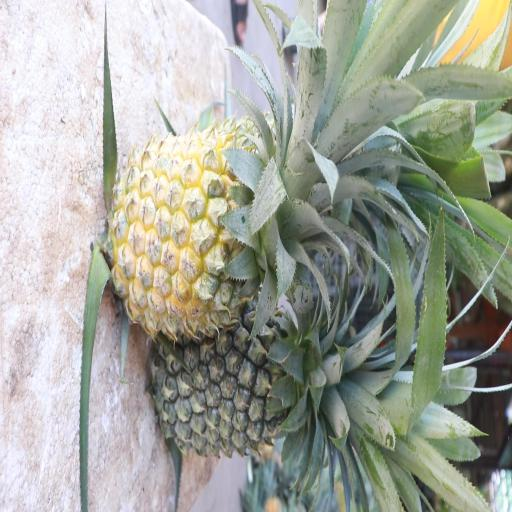Pineapple - v8 v1: (118, 127, 306, 333)
